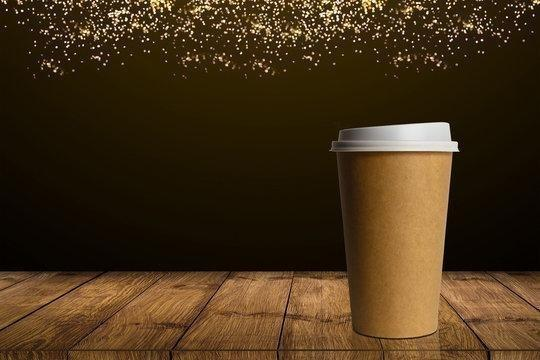cup-disposable: (328, 118, 461, 342)
